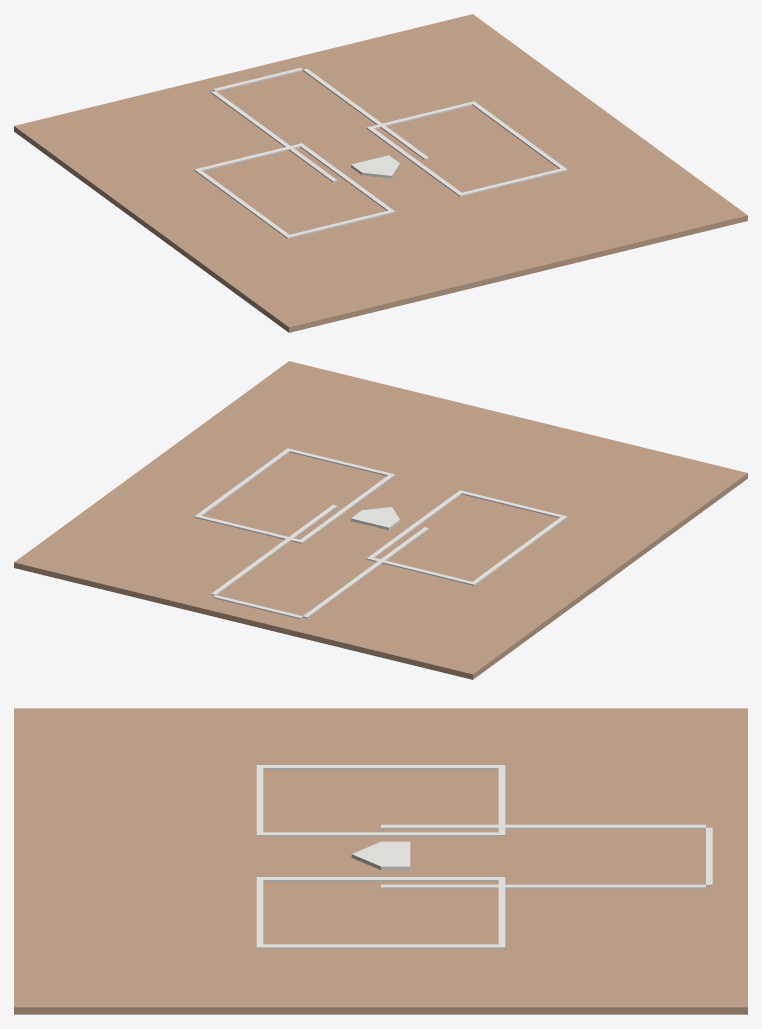
Rendered from baseball-park-and-batting-cages-home-plate-and-batters-9590e7bf__33746.glb.
3 views of the same model, one above another, from view 1: azimuth 30°, elevation 25°; view 2: azimuth 150°, elevation 25°; view 3: azimuth 270°, elevation 25° (orthographic). The views are drawn at different scales.
Visible parts, largest first — view 1: home-plate-and-batters-boxes; view 2: home-plate-and-batters-boxes; view 3: home-plate-and-batters-boxes.
Part boxes in pixels (bbox=[...]): home-plate-and-batters-boxes: bbox=[14, 14, 747, 332]; home-plate-and-batters-boxes: bbox=[14, 361, 747, 679]; home-plate-and-batters-boxes: bbox=[14, 708, 747, 1014].
Bounding box in the file's own units: 5.2 × 0.0899 × 5.4.
